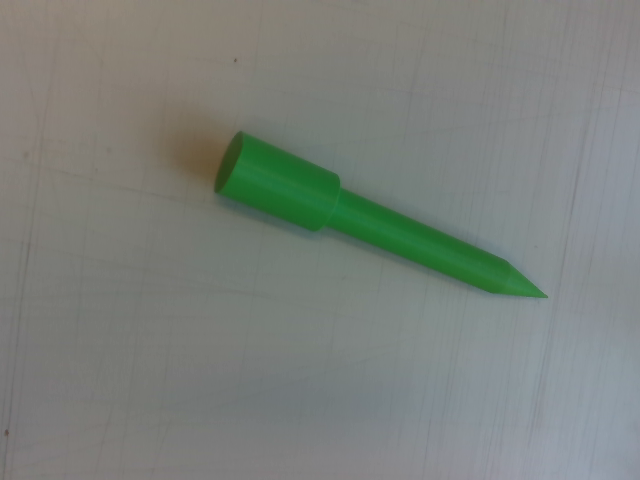Probe: (206, 125, 557, 306)
